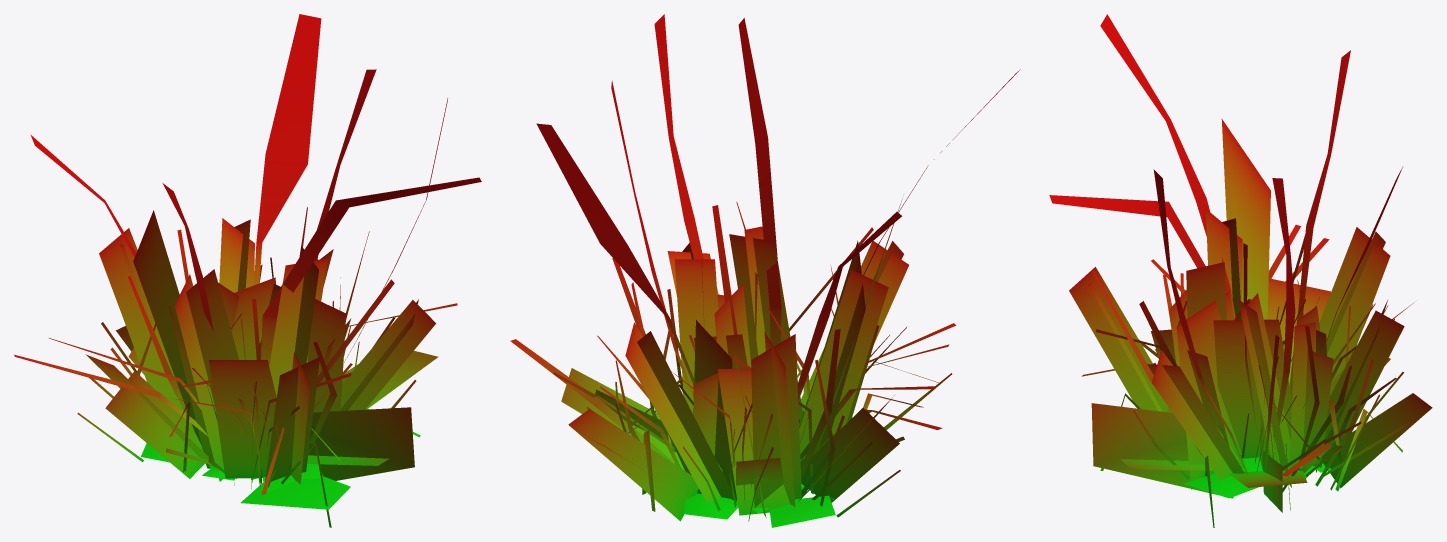
Rendered from Var4_LOD3.fbx.
3 renders of one model, left to right at view 1: azimuth 30°, elevation 25°; view 2: azimuth 150°, elevation 25°; view 3: azimuth 270°, elevation 25°, orthographic. The views are drawn at different scales.
Parts seen in each view (by area): view 1: _491e_Var4_LOD3; view 2: _491e_Var4_LOD3; view 3: _491e_Var4_LOD3.
Part boxes in pixels (x1=…): _491e_Var4_LOD3: x1=14, y1=14, x2=481, y2=527; _491e_Var4_LOD3: x1=510, y1=14, x2=1020, y2=527; _491e_Var4_LOD3: x1=1049, y1=14, x2=1432, y2=527.
Bounding box in the file's own units: 41.65 × 37.59 × 33.18.
